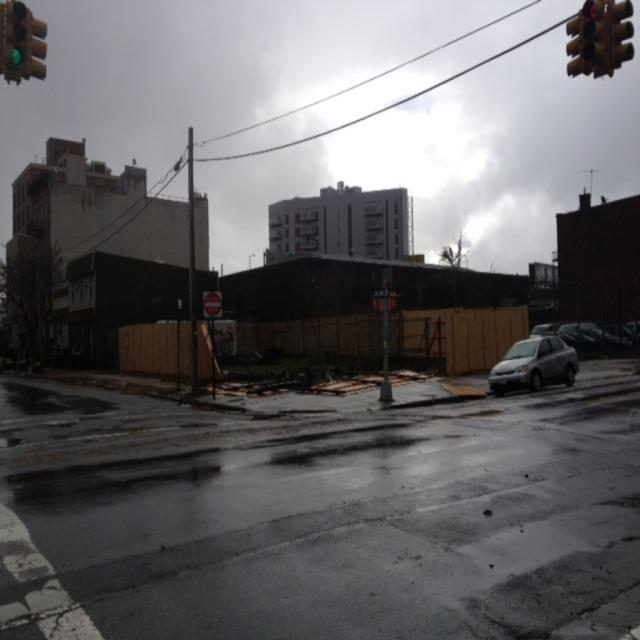car: (490, 323, 585, 395)
